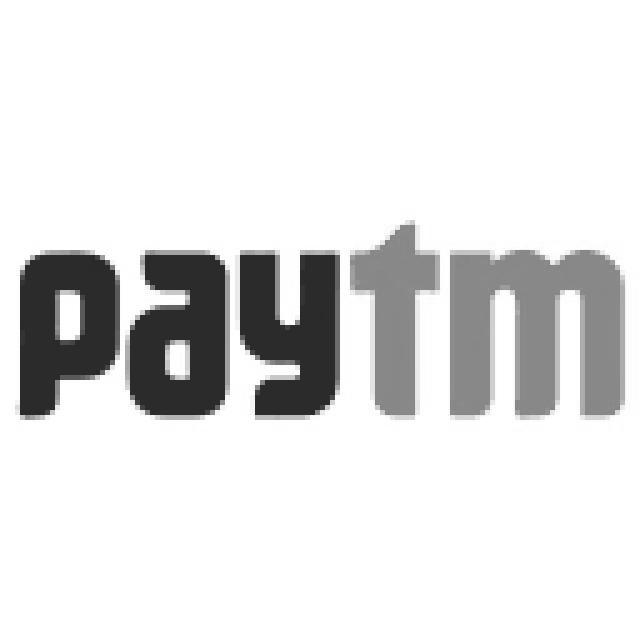fully_visible: (19, 223, 640, 466)
